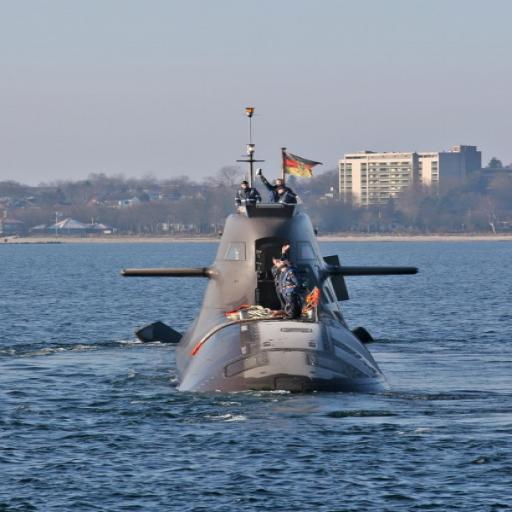submarine: (112, 104, 429, 396)
